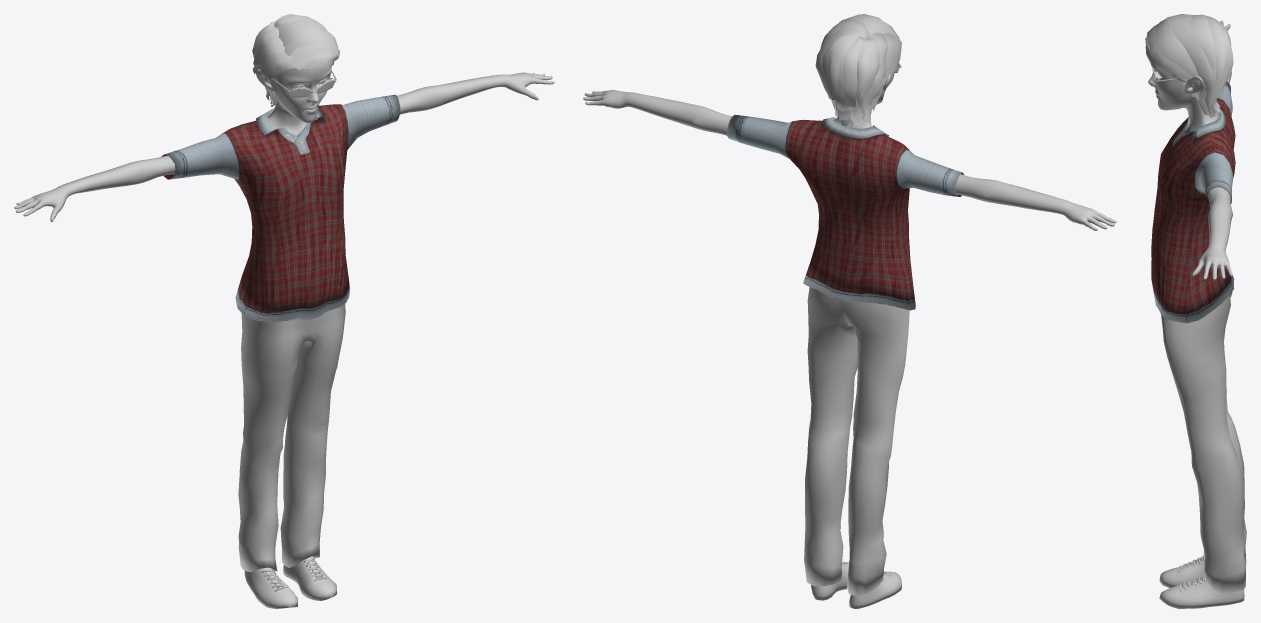
File: Nerd.obj
The picture shows the model from 3 angles, left to right: view 1: azimuth 30°, elevation 25°; view 2: azimuth 150°, elevation 25°; view 3: azimuth 270°, elevation 25°; orthographic projection.
Visible parts, largest first — view 1: Tops, Bottoms, Body, Hair, Shoes; view 2: Bottoms, Tops, Hair, Body, Shoes; view 3: Bottoms, Tops, Hair, Body, Shoes.
Part boxes in pixels (box(x1,y1,x2,y2)): Tops: box(161, 94, 400, 322); Bottoms: box(238, 303, 345, 572); Body: box(14, 58, 554, 221); Hair: box(252, 14, 339, 106); Shoes: box(244, 556, 336, 608); Bottoms: box(804, 287, 909, 596); Tops: box(727, 115, 963, 310); Hair: box(815, 14, 901, 127); Body: box(583, 71, 1116, 230); Shoes: box(811, 561, 901, 608); Bottoms: box(1161, 292, 1246, 593); Tops: box(1151, 81, 1235, 323); Hair: box(1145, 14, 1233, 117); Body: box(1145, 20, 1232, 280); Shoes: box(1159, 555, 1244, 608).
Bounding box in the file's own units: 163 × 167 × 26.73.
